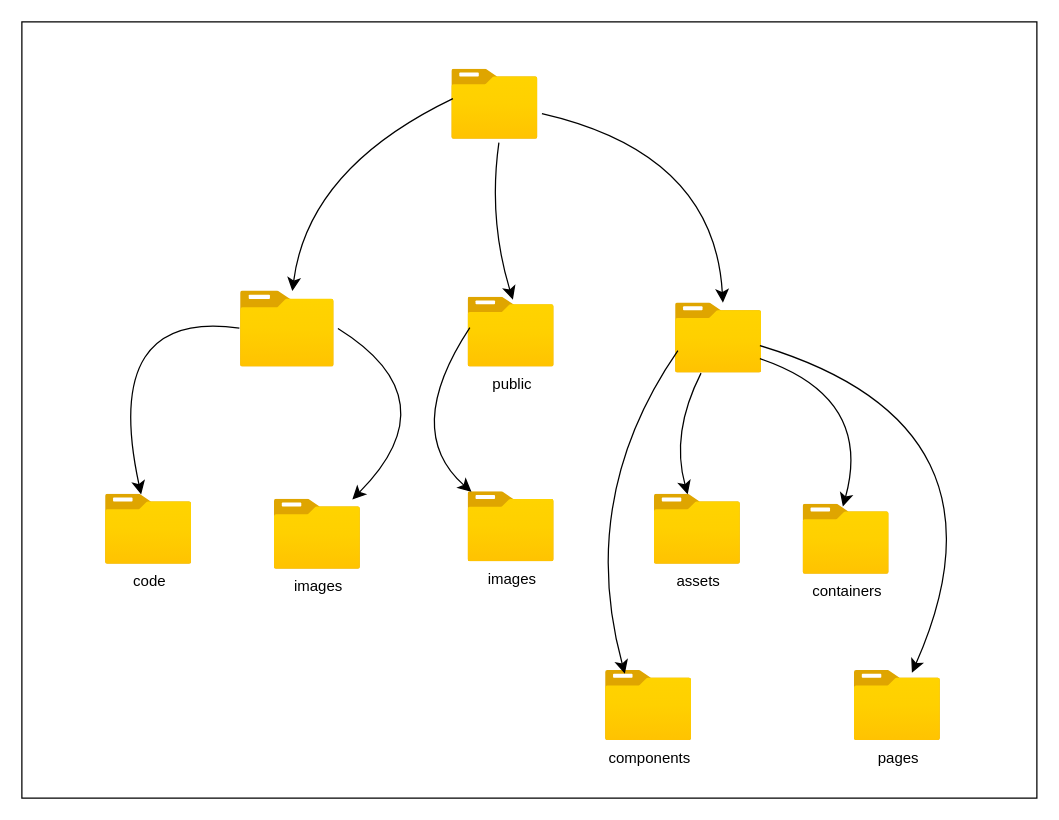
Image size: 1059x820. Some labels were removed from this diagram. Each missing label, with the centre of its shape:
docs: (287,328)
Project Folder: (494,104)
src: (718,337)
